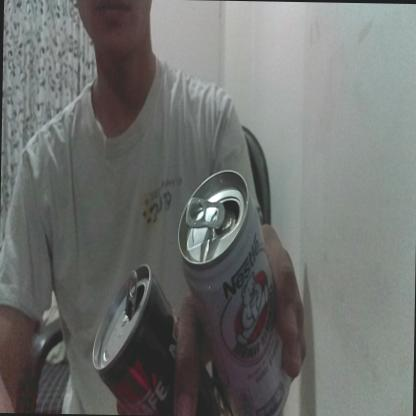alumunium_can: (174, 171, 295, 397), (92, 266, 186, 403)
